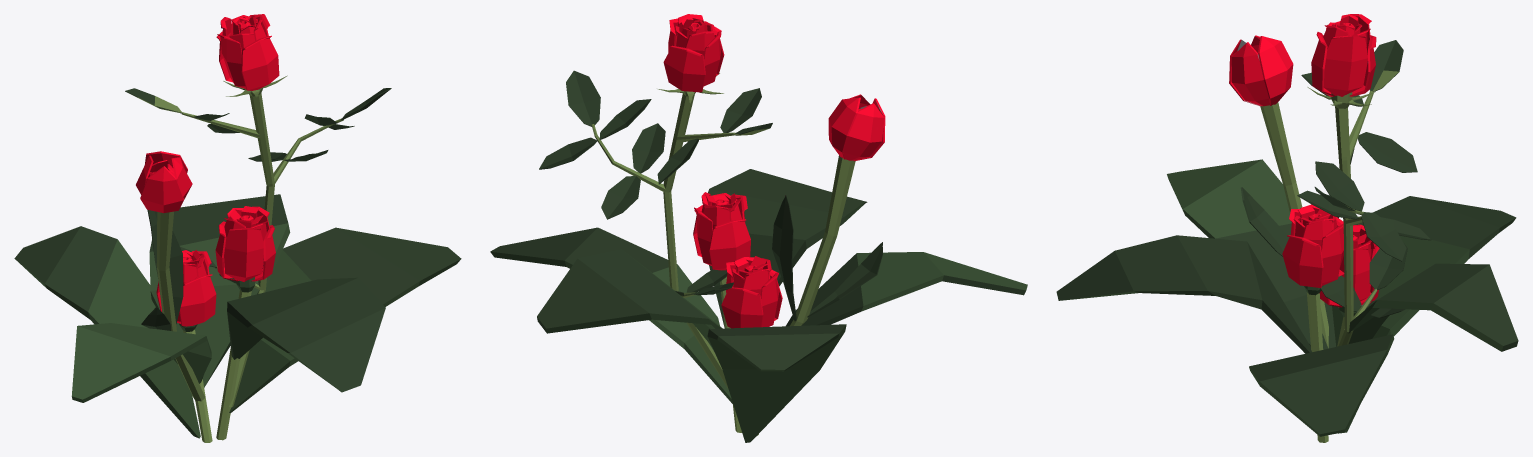
The model's file is Flower_Rose.fbx.
3 renders of one model, left to right at view 1: azimuth 30°, elevation 25°; view 2: azimuth 150°, elevation 25°; view 3: azimuth 270°, elevation 25°, orthographic. The views are drawn at different scales.
Parts seen in each view (by area): view 1: Flower 3, Flower 2, Flower; view 2: Flower 3, Flower 2, Flower; view 3: Flower 3, Flower 2, Flower.
Boxes of the visible parts, x1=… form: Flower 3: x1=14, y1=194, x2=461, y2=442; Flower 2: x1=125, y1=14, x2=391, y2=407; Flower: x1=136, y1=151, x2=205, y2=401; Flower 3: x1=490, y1=169, x2=1027, y2=442; Flower 2: x1=539, y1=14, x2=772, y2=388; Flower: x1=772, y1=94, x2=885, y2=326; Flower 3: x1=1056, y1=159, x2=1518, y2=442; Flower 2: x1=1297, y1=14, x2=1430, y2=346; Flower: x1=1229, y1=35, x2=1354, y2=348.
Bounding box in the file's own units: 141 × 120 × 114.
